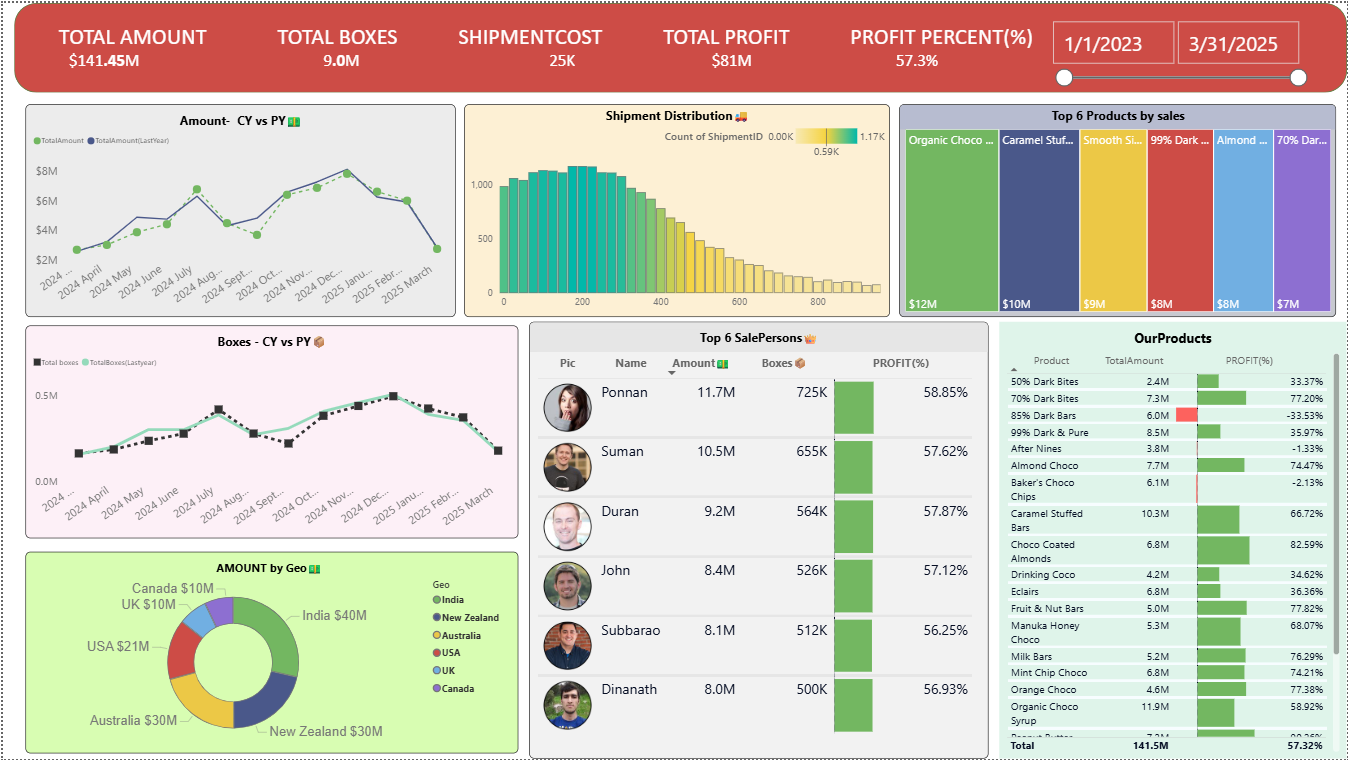

This screenshot's page, from the dashboard's own definition file:
{"tool":"powerbi","page":{"name":"DashBoard","canvas":[1920,1080],"ordinal":8},"visuals":[{"type":"shape","box":[16,0,1904,128],"z":0},{"type":"textbox","box":[24,24,1512,144],"z":1000},{"type":"slicer","fields":{"Values":["calendar.cal_date"]},"box":[1488,16,384,128],"z":2000},{"type":"lineChart","title":"Amount-  CY vs PY💵","fields":{"Y":["shipments.TOTAL AMOUNT","shipments.Totalamount(last year)"],"Category":["calendar.year","calendar.month_name"]},"box":[32,144,614,304],"z":3000},{"type":"lineChart","title":"Boxes - CY vs PY📦","fields":{"Category":["calendar.year","calendar.month_name"],"Y":["shipments.Total boxes","shipments.TotalBoxes(Lastyear)"]},"box":[32,460,704,304],"z":4000},{"type":"donutChart","title":" AMOUNT by Geo💵","fields":{"Category":["locations.Geo"],"Y":["shipments.TOTAL AMOUNT"]},"box":[32,784,704,288],"z":5000},{"type":"clusteredColumnChart","title":"Shipment Distribution🚚","fields":{"Y":["CountNonNull(shipments.ShipmentID)"],"Category":["shipments.Boxes (bins)"]},"box":[659,144,608,304],"z":6000},{"type":"tableEx","title":"Top 6 SalePersons👑","fields":{"Values":["people.Picture","people.FirstName","shipments.TOTAL AMOUNT","shipments.Total boxes","shipments.PROFIT(%)"]},"box":[752,456,656,624],"z":7000},{"type":"treemap","title":"Top 6 Products by sales","fields":{"Values":["shipments.TotalAmount","shipments.TotalAmount"],"Group":["products.Product"]},"box":[1280,144,624,304],"z":8000},{"type":"tableEx","title":"OurProducts","fields":{"Values":["products.Product","shipments.TotalAmount","shipments.PROFIT(%)"]},"box":[1424,456,496,624],"z":9000}]}

Visuals, with their boxes in screenshot pixels (x1, y1, x2, y2), scaled from the page's 1920x1080 canvas onto the 1348x760 screenshot:
shape: bbox(11, 0, 1347, 90)
textbox: bbox(17, 17, 1078, 118)
slicer - calendar.cal_date: bbox(1045, 11, 1314, 101)
"Amount-  CY vs PY💵" lineChart: bbox(22, 101, 454, 315)
"Boxes - CY vs PY📦" lineChart: bbox(22, 324, 517, 538)
" AMOUNT by Geo💵" donutChart: bbox(22, 552, 517, 754)
"Shipment Distribution🚚" clusteredColumnChart: bbox(463, 101, 890, 315)
"Top 6 SalePersons👑" tableEx: bbox(528, 321, 989, 759)
"Top 6 Products by sales" treemap: bbox(899, 101, 1337, 315)
"OurProducts" tableEx: bbox(1000, 321, 1347, 759)
